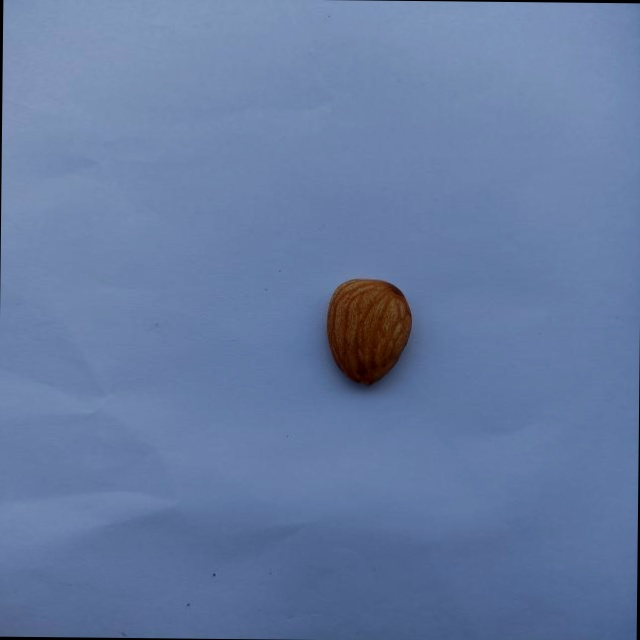grade1: (316, 272, 419, 394)
